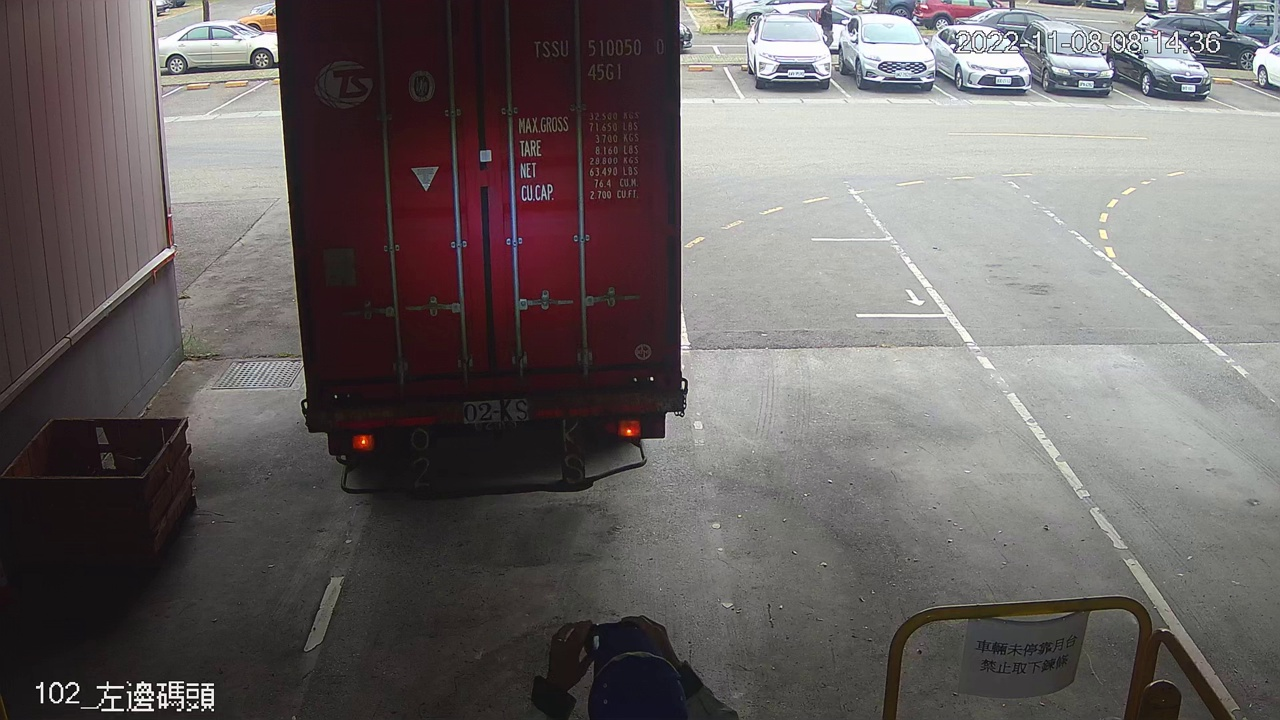container: (524, 30, 670, 88)
